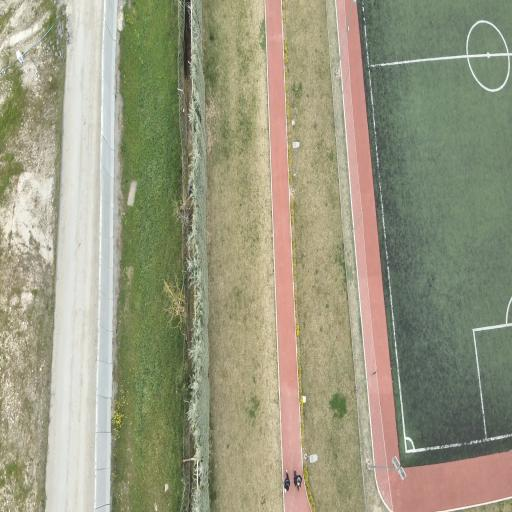person: (294, 470, 302, 490), (284, 470, 290, 492)
